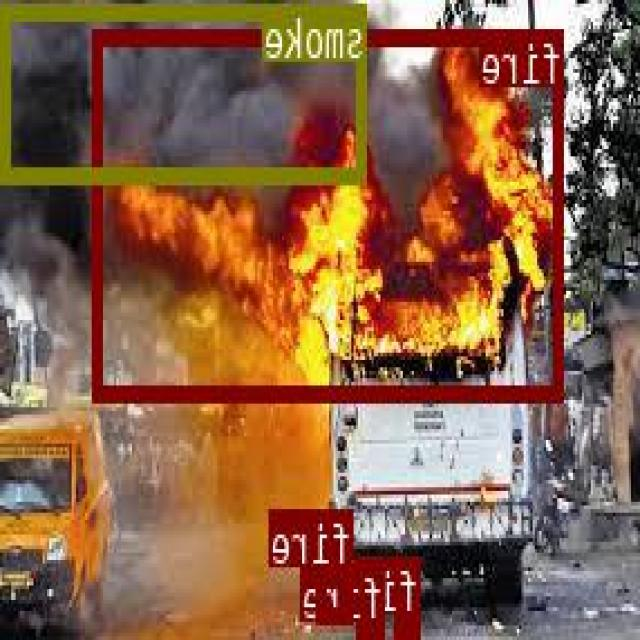fire: (96, 26, 566, 398), (318, 566, 355, 622), (398, 614, 422, 633), (360, 621, 387, 633)
smoke: (4, 2, 368, 178)
